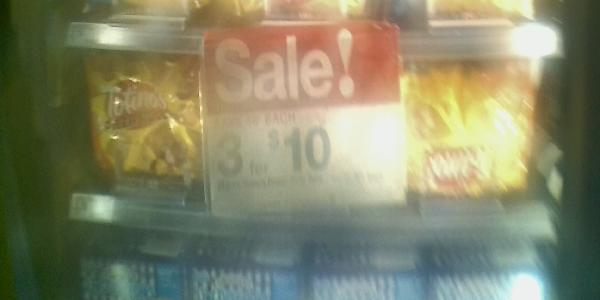icecream: (394, 51, 530, 207), (75, 46, 205, 199)
